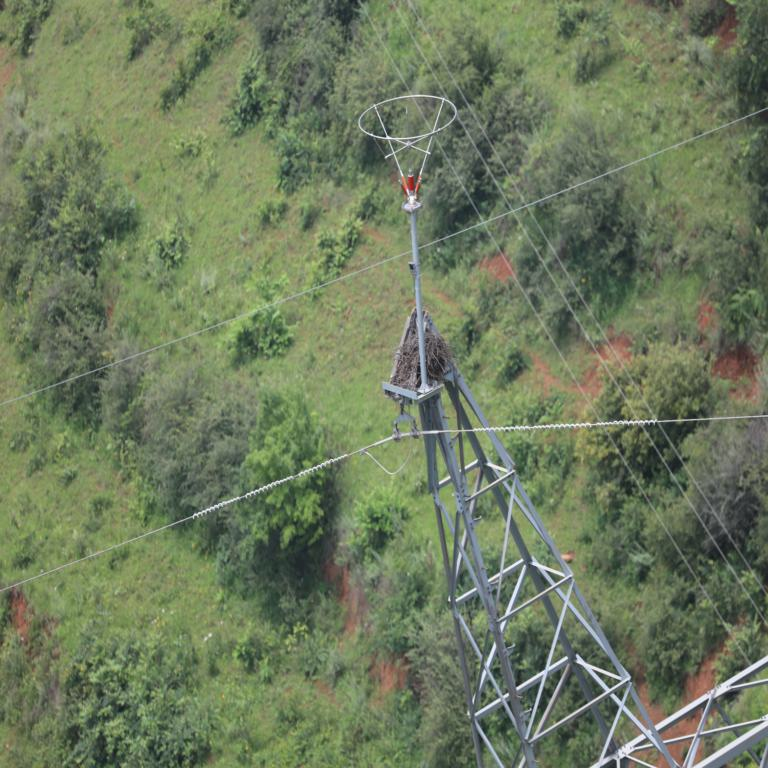nest: (396, 330, 447, 395)
